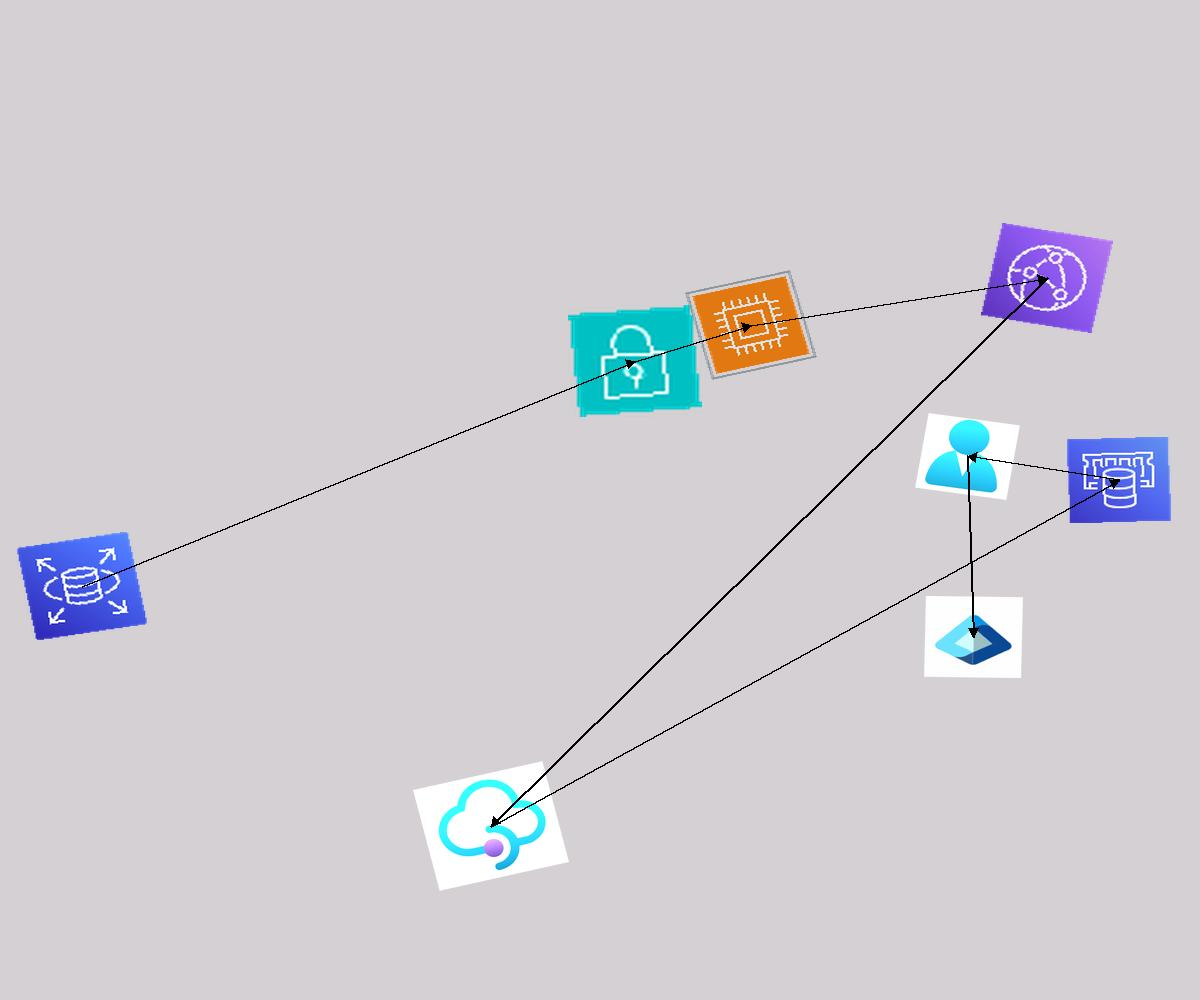AWS-Category_Compute: (685, 270, 817, 380)
AWS-CloudFront: (981, 223, 1113, 333)
AWS-ElastiCache: (1066, 436, 1172, 524)
AWS-Private-subnet: (568, 305, 702, 417)
AWS-RDS: (16, 531, 148, 641)
Azure_api_gateway: (413, 761, 569, 891)
Azure_microsoft_entra: (924, 596, 1023, 678)
Azure_users: (915, 413, 1020, 500)
